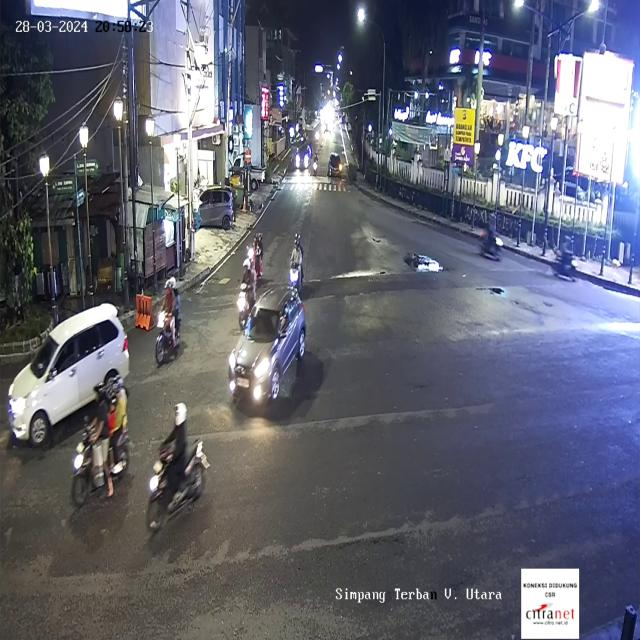car: (6, 305, 130, 449), (228, 285, 304, 413), (196, 189, 238, 233), (295, 146, 312, 172), (328, 150, 342, 178)
motorcycle: (145, 400, 209, 528), (73, 369, 132, 506), (154, 276, 186, 366), (480, 211, 506, 265), (552, 234, 576, 283), (236, 260, 252, 327), (247, 231, 263, 286), (289, 234, 303, 291), (313, 153, 318, 173)
